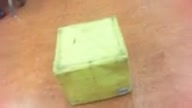cube: (52, 15, 133, 104)
